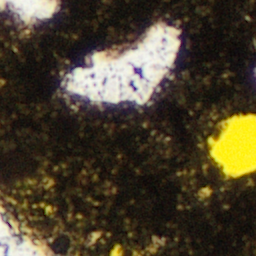air_pores: (208, 114, 255, 177)
cement_matrix: (0, 0, 255, 255), (63, 22, 180, 106)
cracks: (112, 250, 120, 255)
gravel_crushed_stones: (64, 23, 179, 105), (0, 202, 51, 255), (0, 0, 58, 25)
